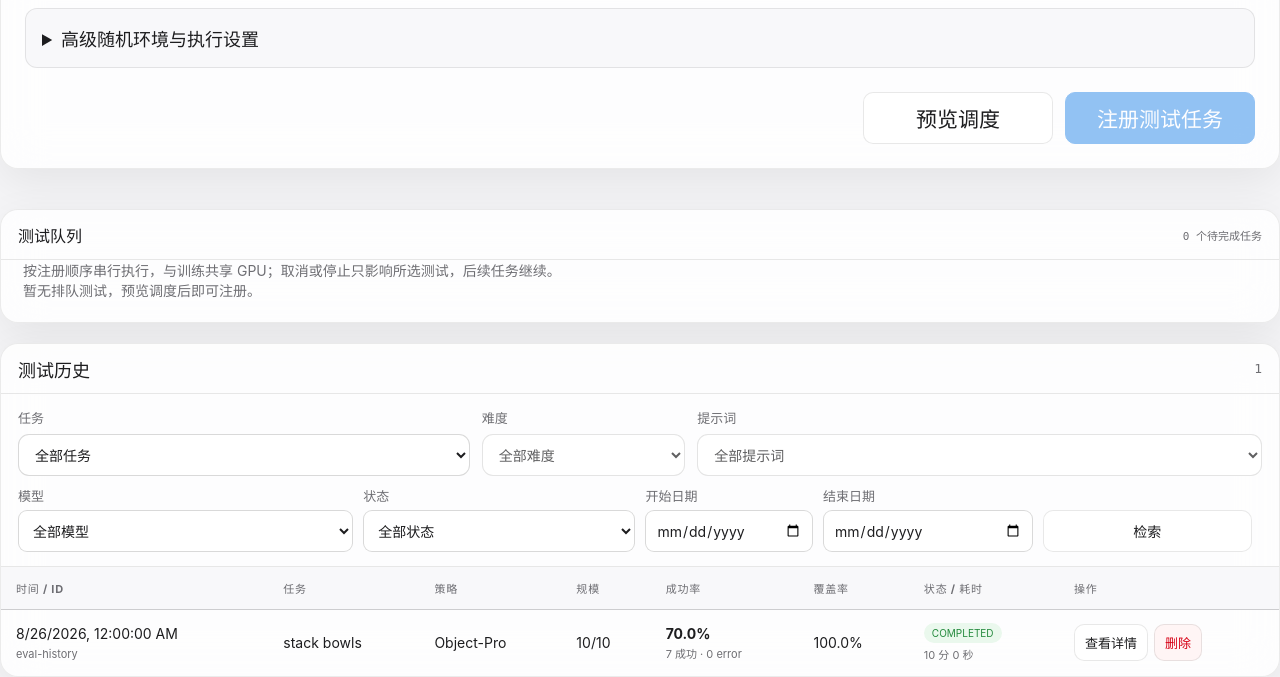
Test: evaluation page › opens a historical test detail with success confidence and grouped metrics
(page scrolled)
Expected: the text "eval-history" is shown, [16, 647, 78, 661]
Click the button "查看详情". click: (1111,643)
box: [1074, 624, 1148, 662]
(page scrolled)
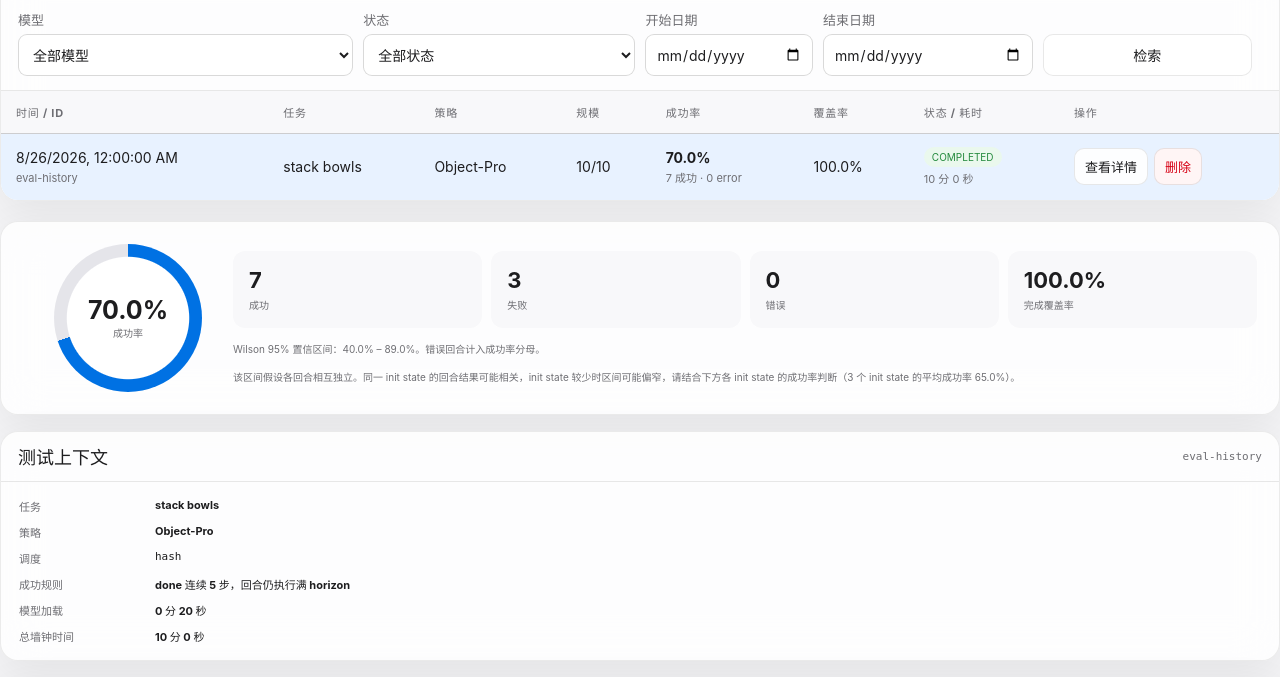
Now the text "Wilson 95% 置信区间：40.0% – 89.0%。错误回合计入成功率分母。" is shown, box [233, 343, 545, 355]
Now the text "3 个 init state 的平均成功率 65.0%" is shown, box [233, 371, 1020, 383]
Now the element labelled "成功率 70.0%" is shown, box [54, 244, 202, 392]
